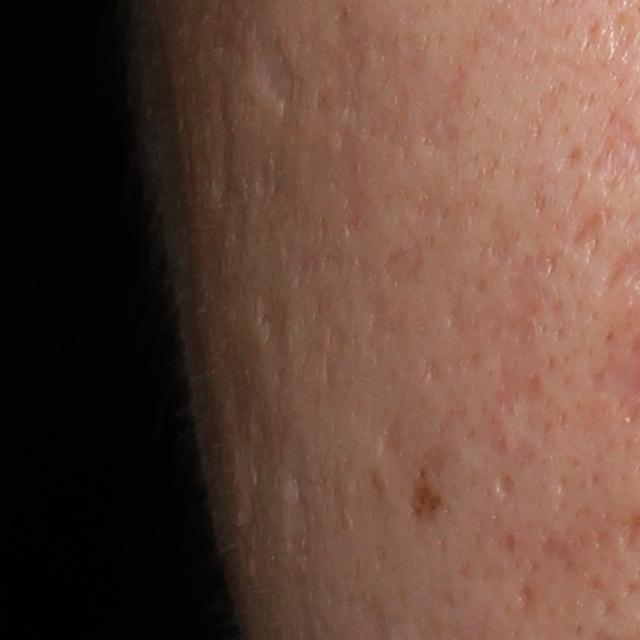atrophic_scar: (420, 54, 471, 162), (239, 13, 296, 109), (205, 87, 242, 214), (491, 347, 551, 419), (381, 231, 430, 291), (566, 204, 609, 265), (258, 281, 288, 352), (610, 11, 639, 58), (378, 422, 406, 458), (517, 572, 538, 612), (493, 467, 514, 500), (420, 350, 442, 381)
melasma: (408, 475, 446, 522)
